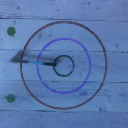Axe Tip: (10, 59, 20, 63)
